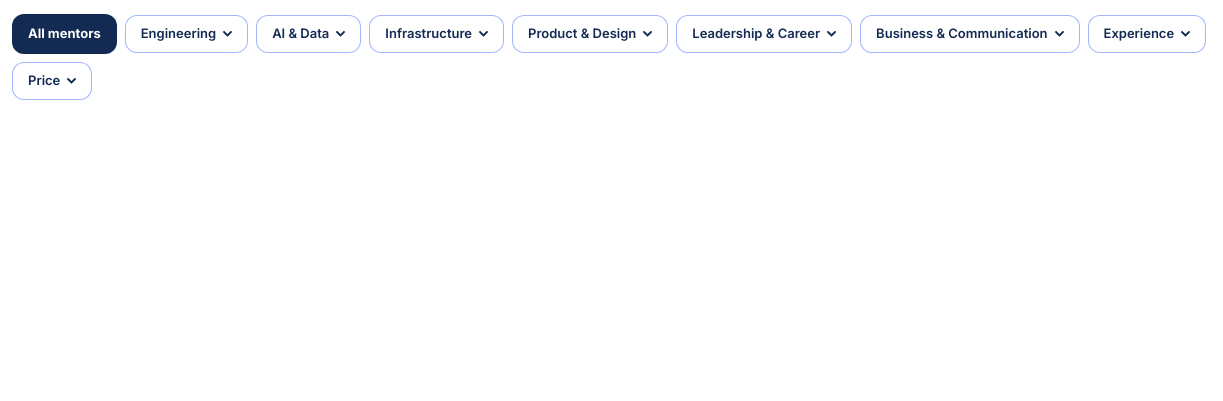
Test: MentorsFilters › activates a category (clearing any tag) and opens its dropdown with per-tag counts
Click the button "Engineering". click: (186, 34)
box: [125,14,248,53]
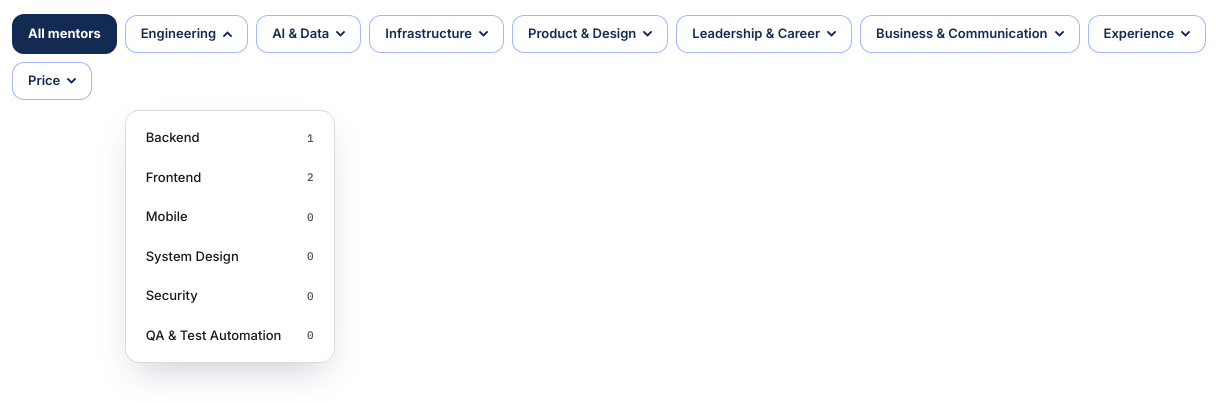
Check: the button "Frontend 2" is shown, box [134,158,326,196]
Check: the button "Backend 1" is shown, box [134,119,326,156]
Check: the button "Mobile 0" is shown, box [134,198,326,236]
